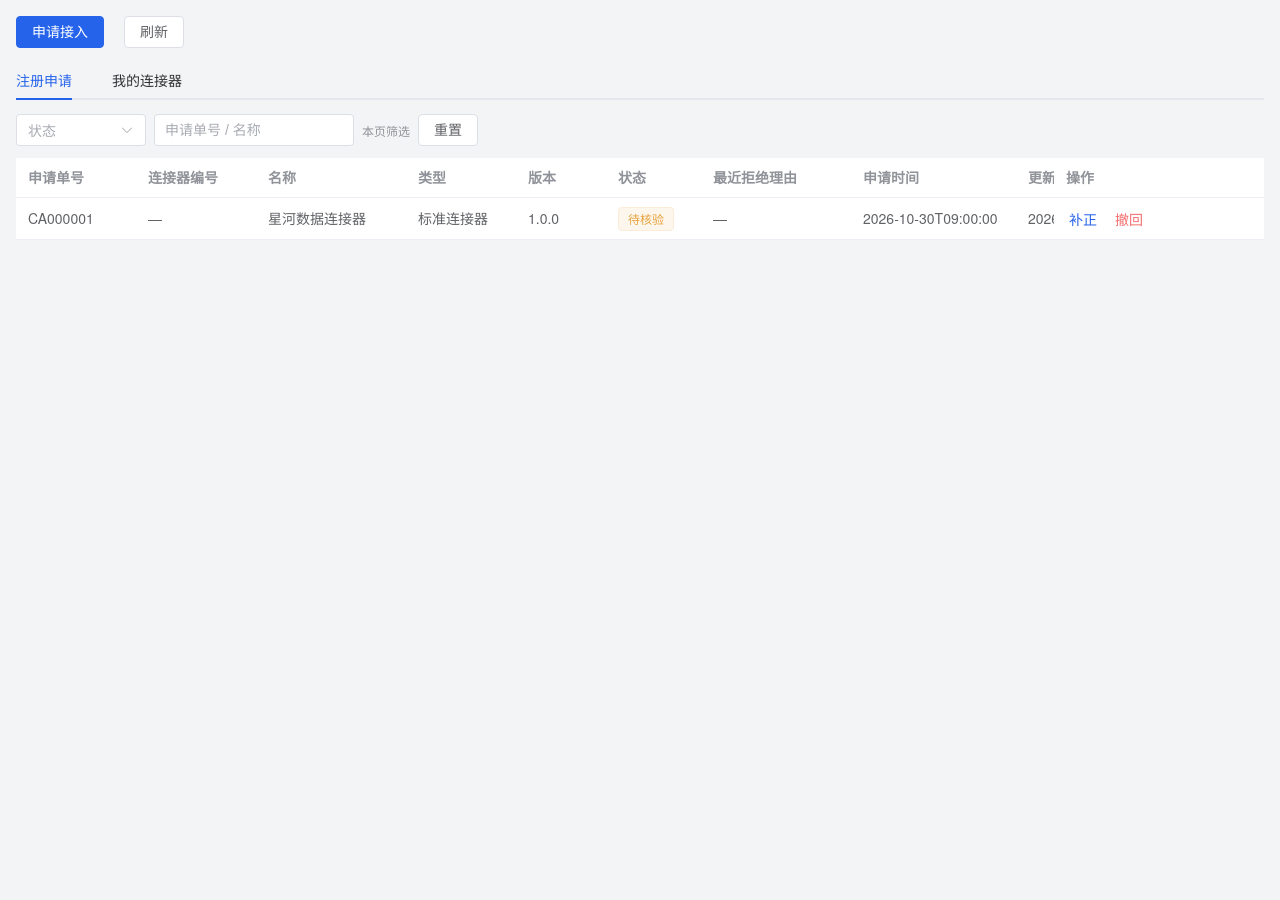
Tab1 注册申请（T4） › 申请弹窗：留空三要素仍可提交（零前端业务校验），服务端文案在弹窗内原样展示
Click the button "申请接入" at (60, 32), box [16,16,104,48]
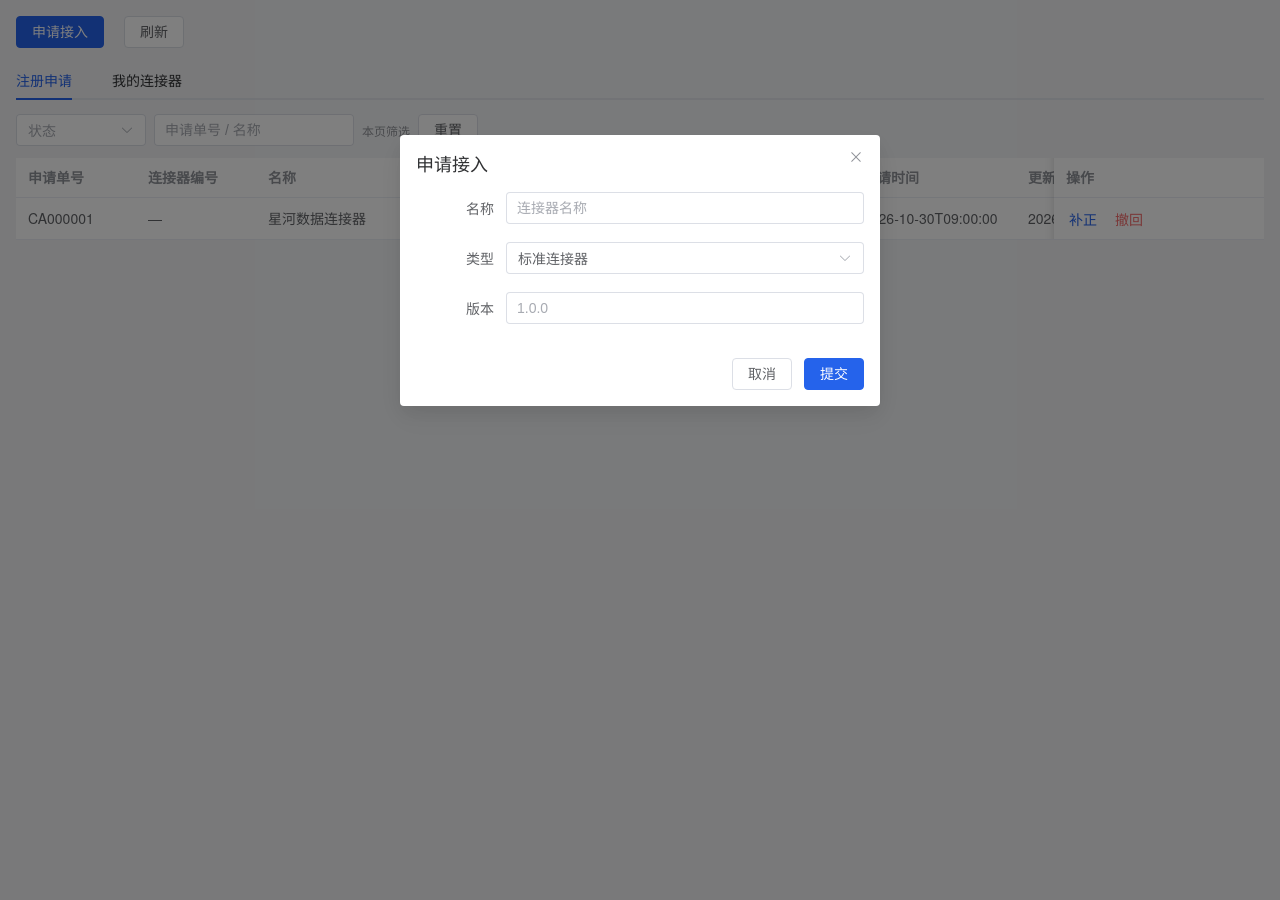
Click the button "提交" at (834, 374), box [804,358,864,390]
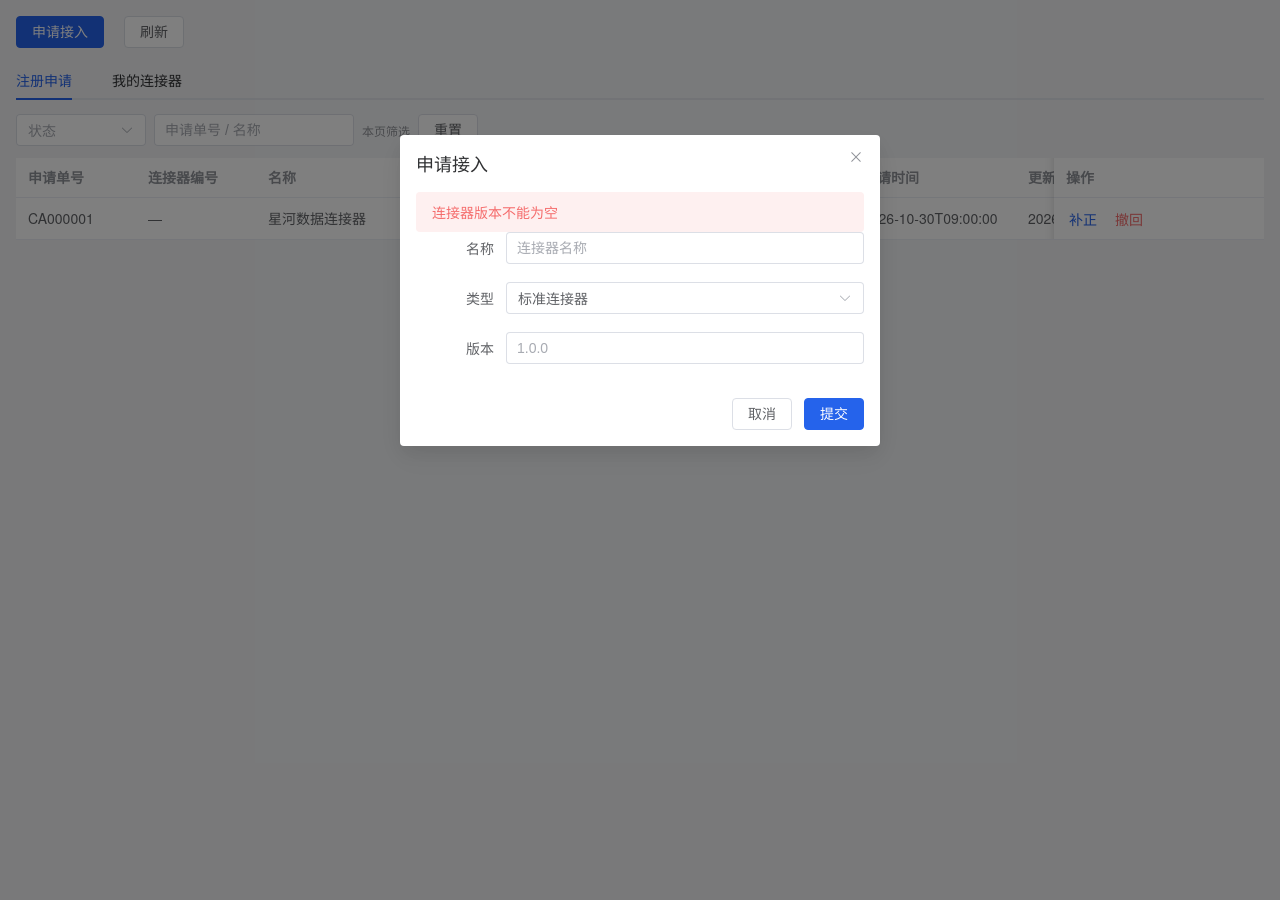
Check: the text "连接器版本不能为空" is shown, box [432,200,558,224]
